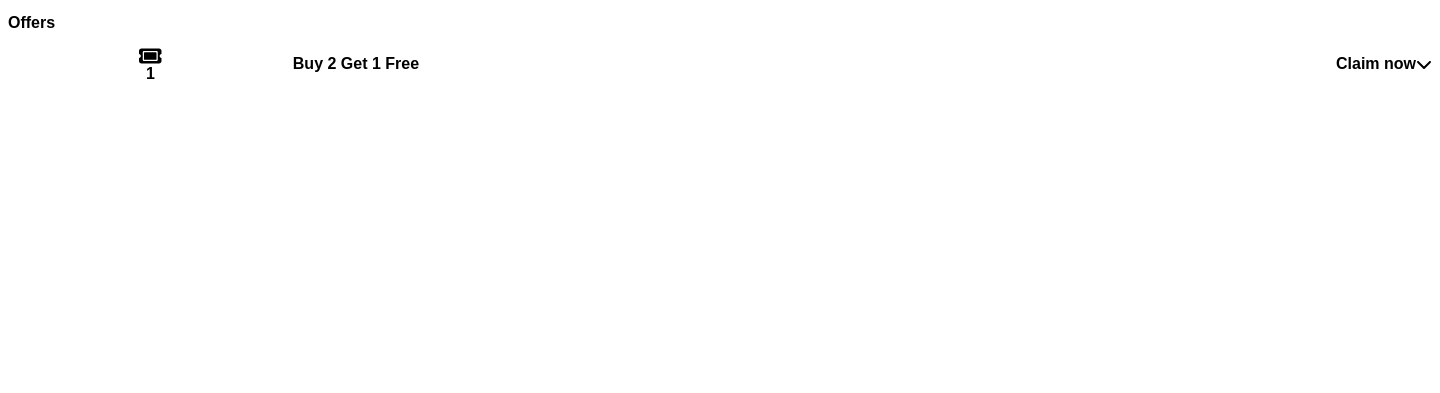
Scenario: store page offers › prints the valid-from to valid-to dates
Click the button "1 Buy 2 Get 1 Free Claim now": {"x": 356, "y": 63} [8, 46, 1432, 82]
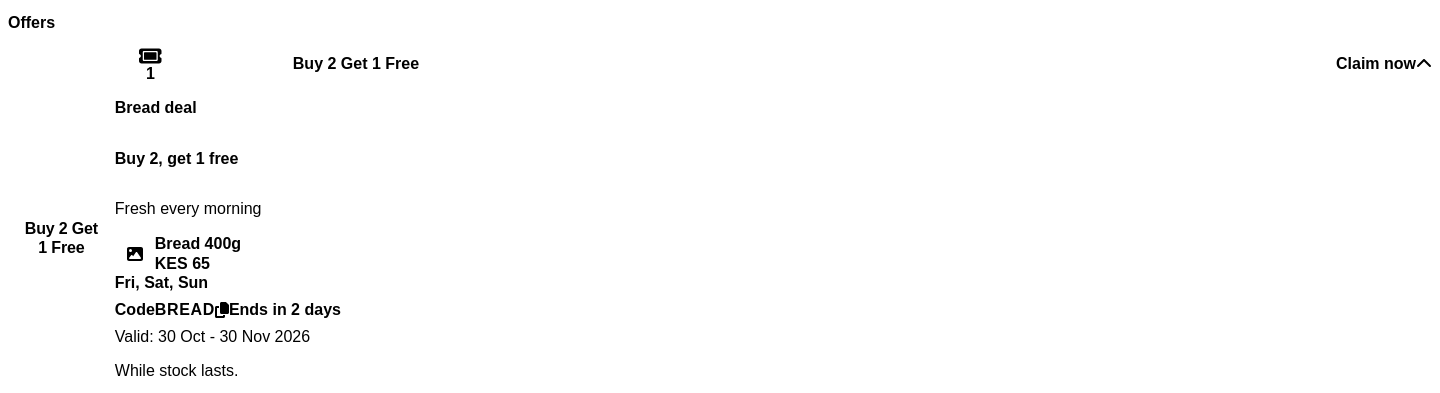
Expected: the text "Valid: 30 Oct - 30 Nov 2026" is shown, [115, 328, 310, 344]
